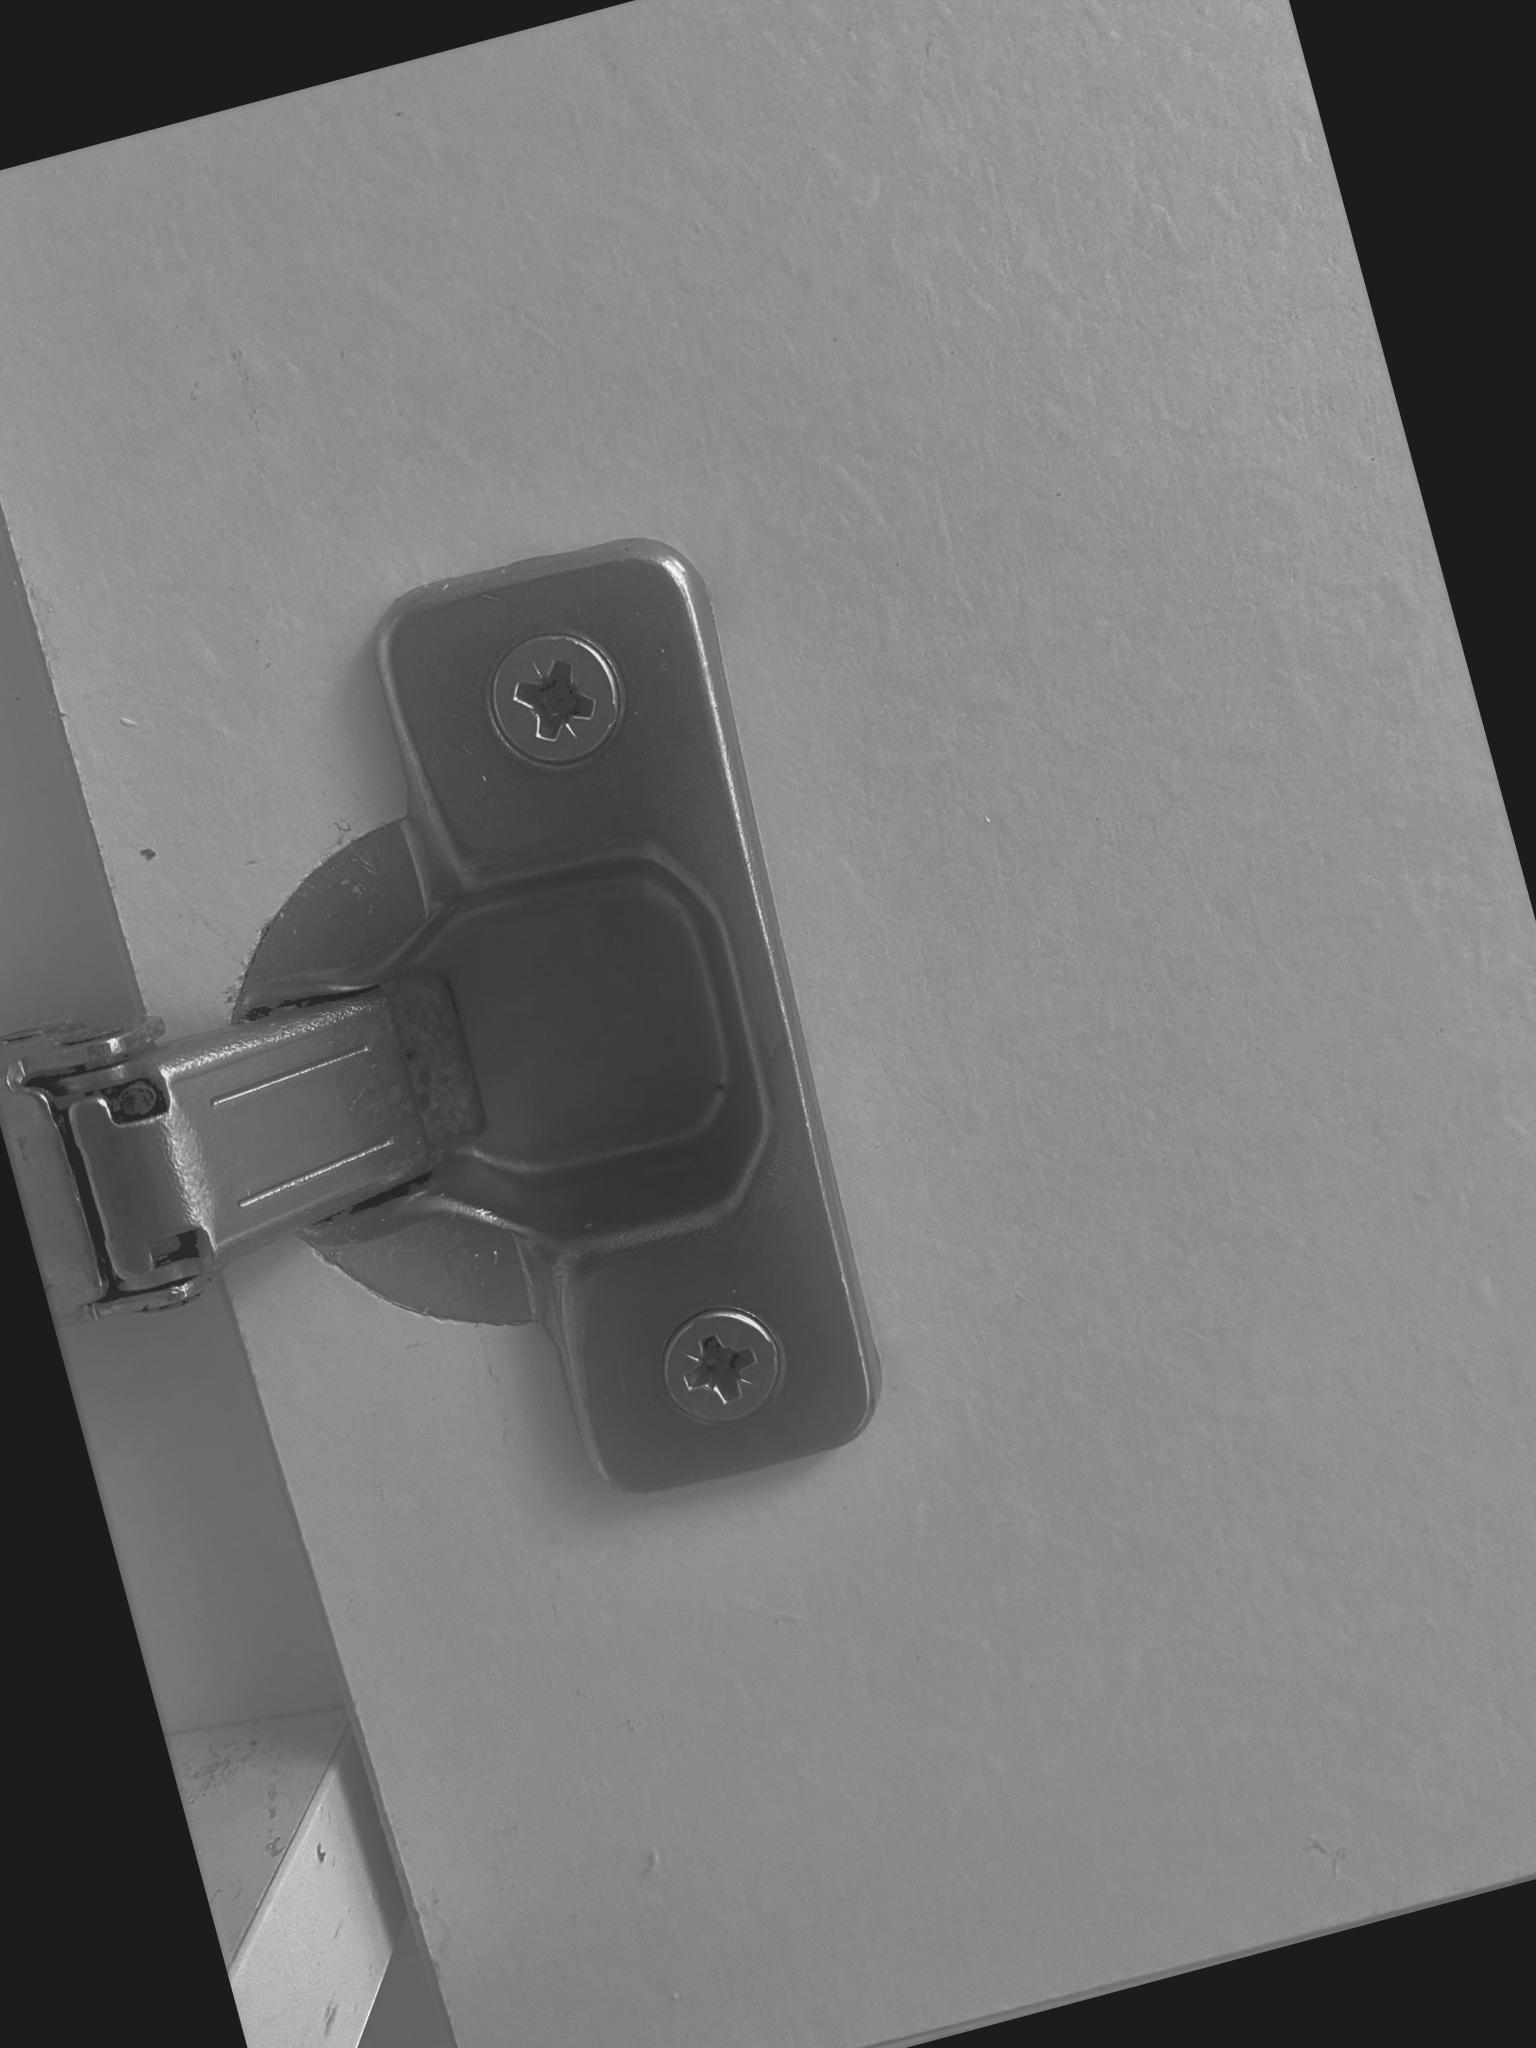philips-PZ: (473, 616, 634, 780), (644, 1293, 795, 1445)
